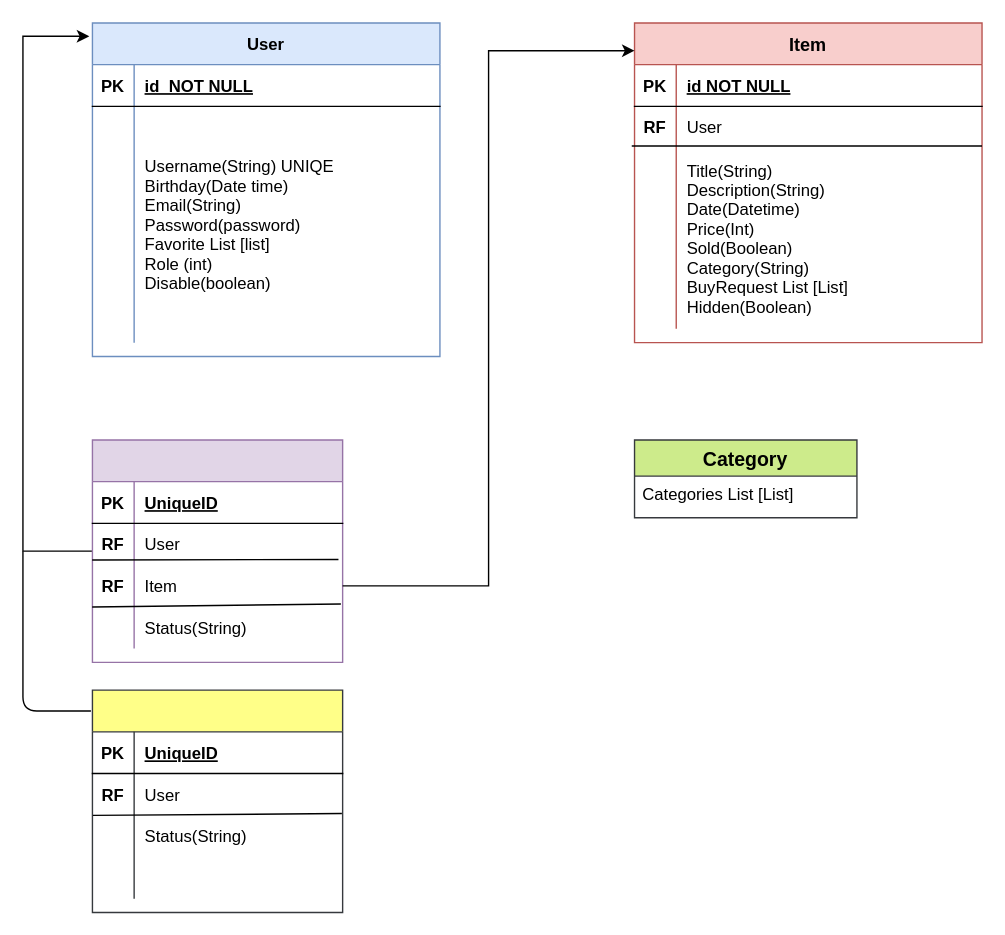
This 1005x935 diagram has some shape labels left out. The shapes that lost their labels are listed below. From the top down, each one's box as (x1, y1, x2, y2) in pixels, then its label:
(91, 439, 343, 662): Buy Request
(91, 689, 343, 913): Upgrade Request
